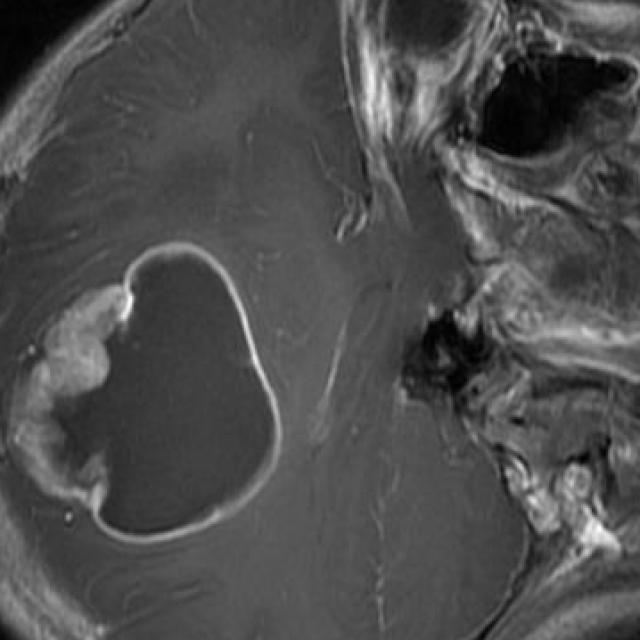glioma: (7, 242, 282, 546)
